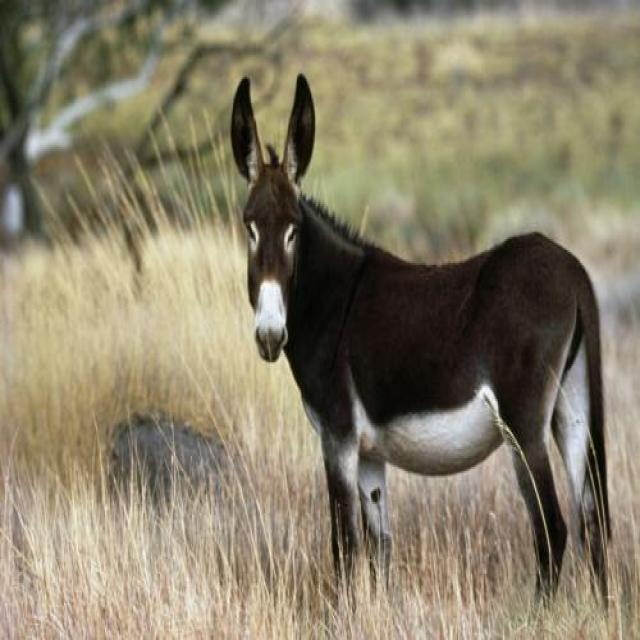Donkey: (232, 71, 612, 607)
